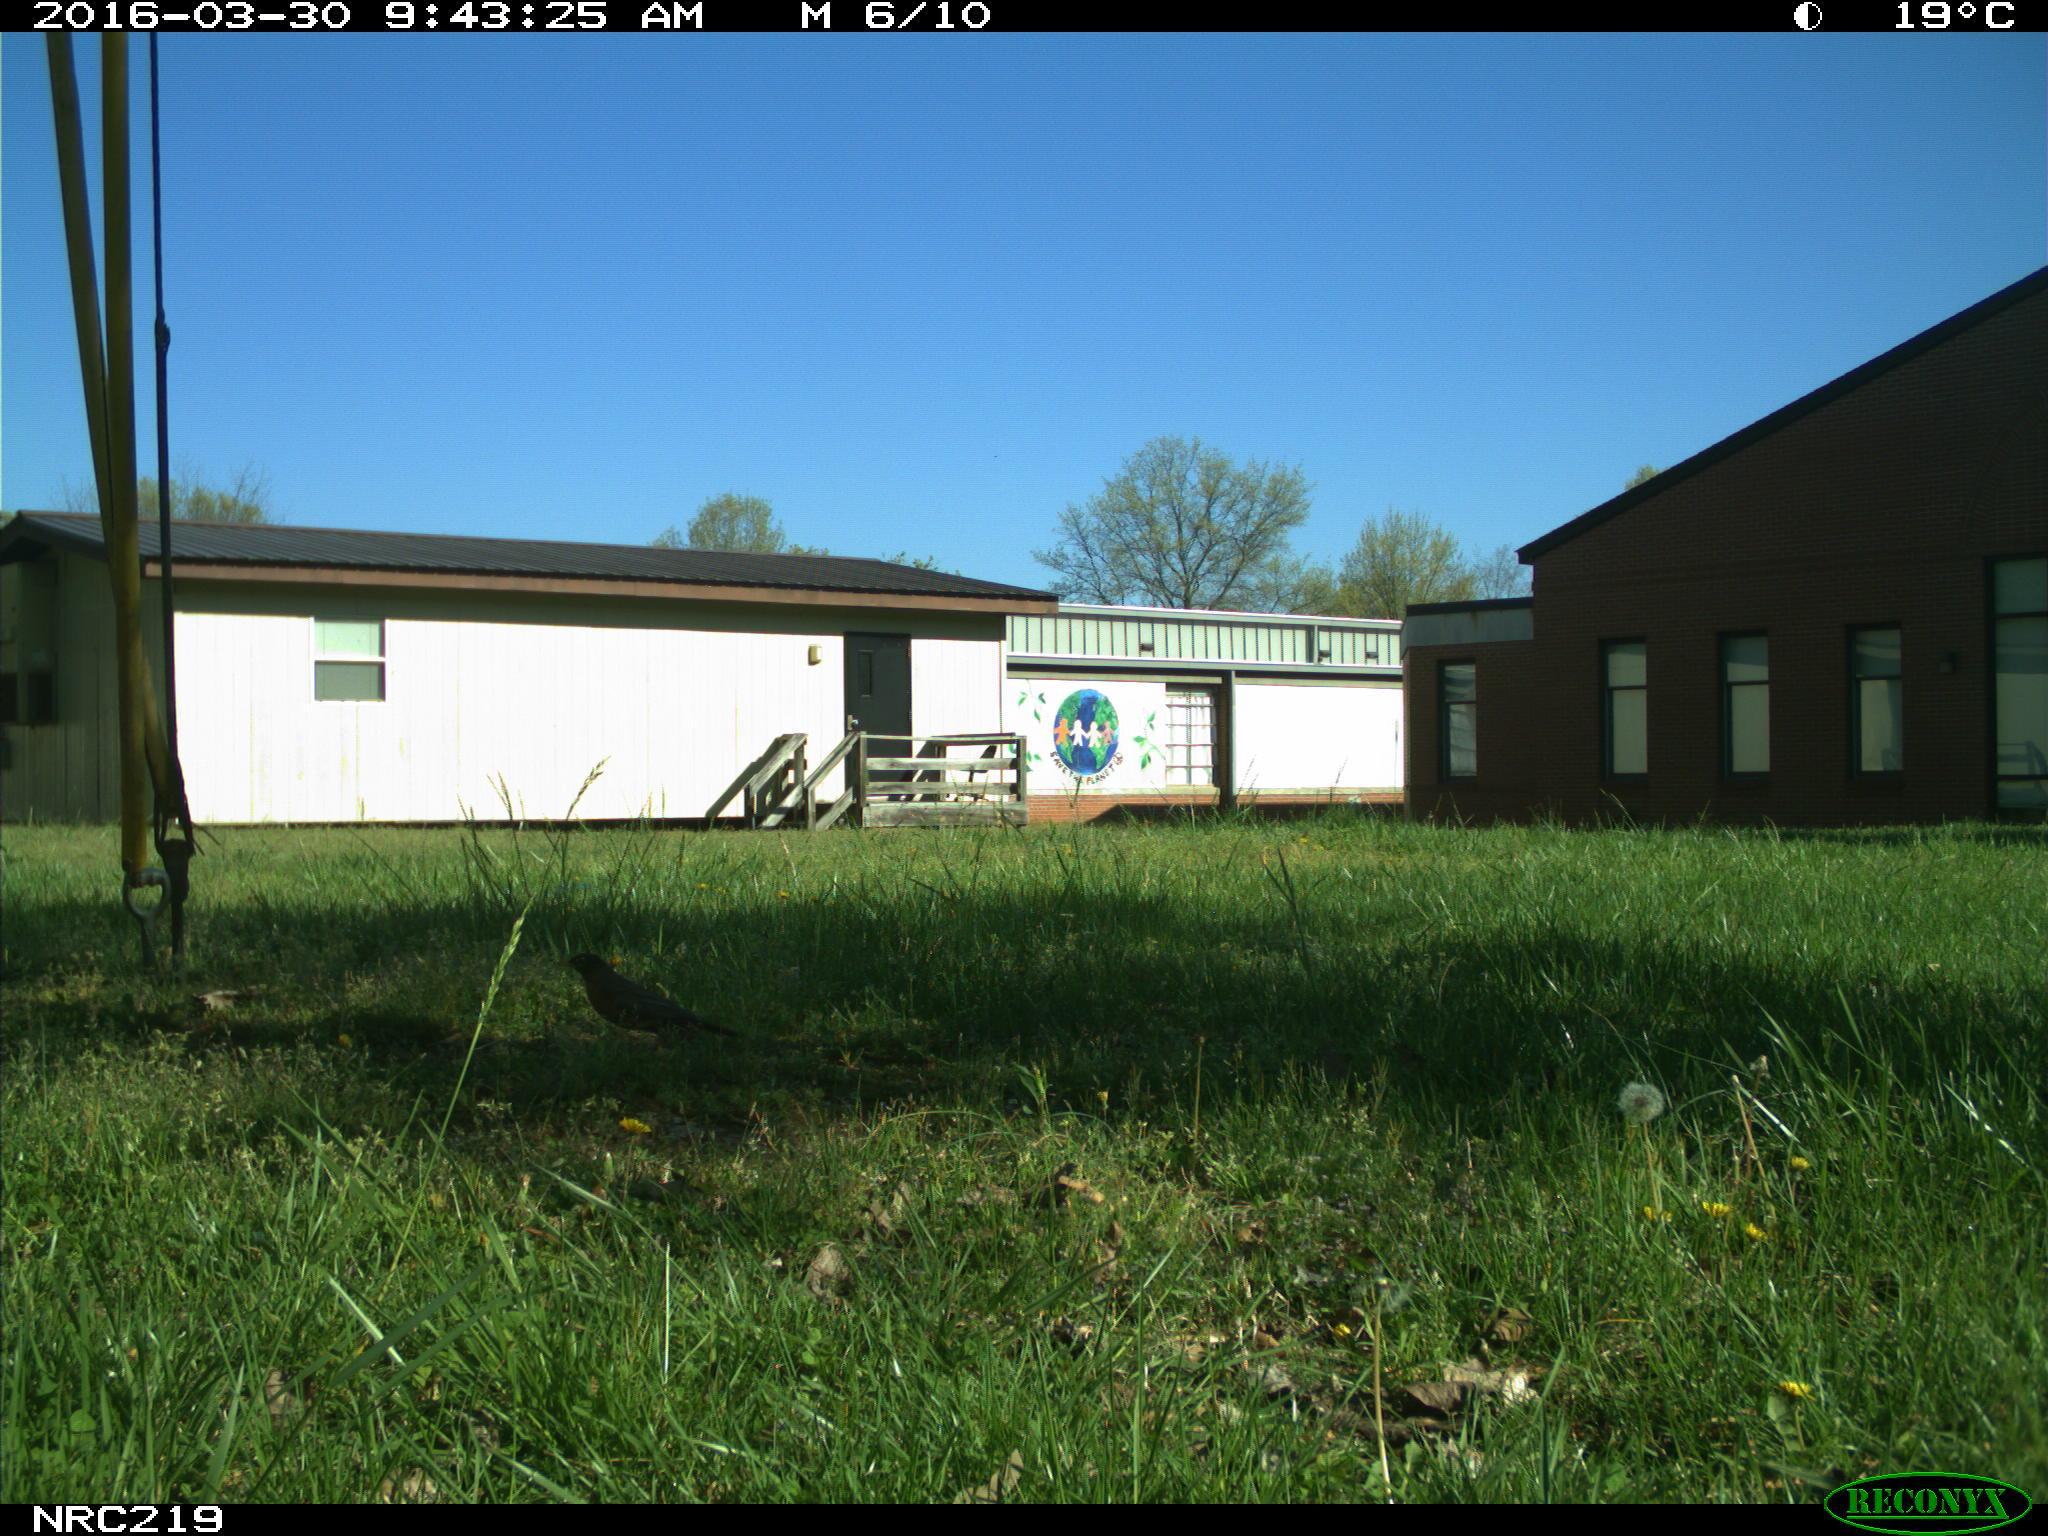Animal: (563, 952, 735, 1054)
